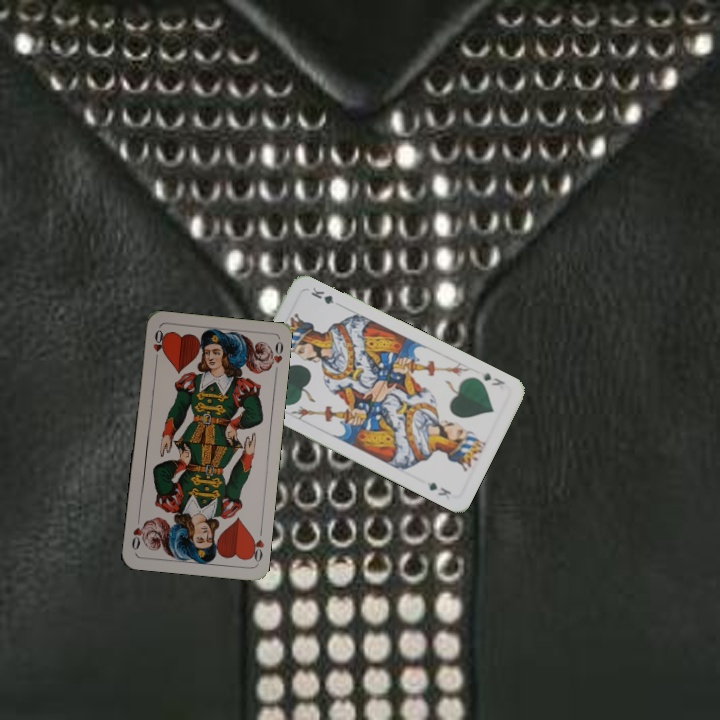GK: (480, 368, 508, 388)
HO: (246, 525, 267, 565), (149, 326, 166, 366)
